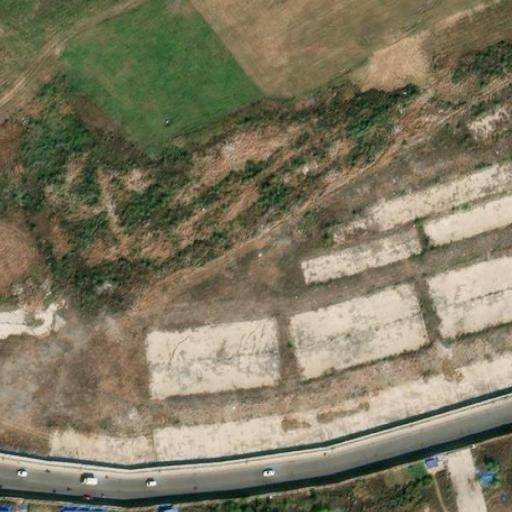building: (65, 501, 107, 512)
